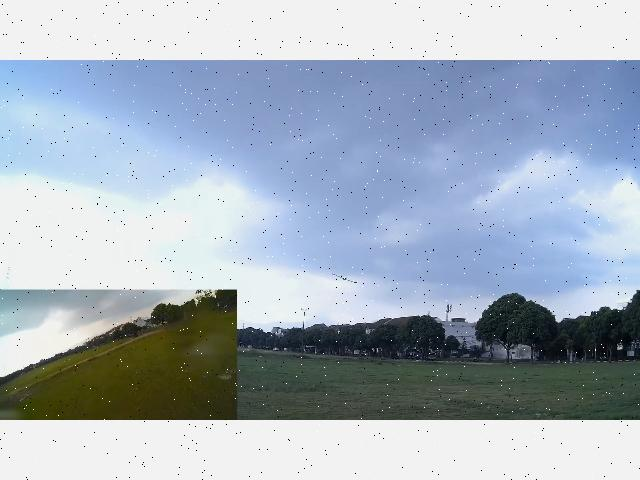Anti-Drone: (331, 273, 357, 283)
